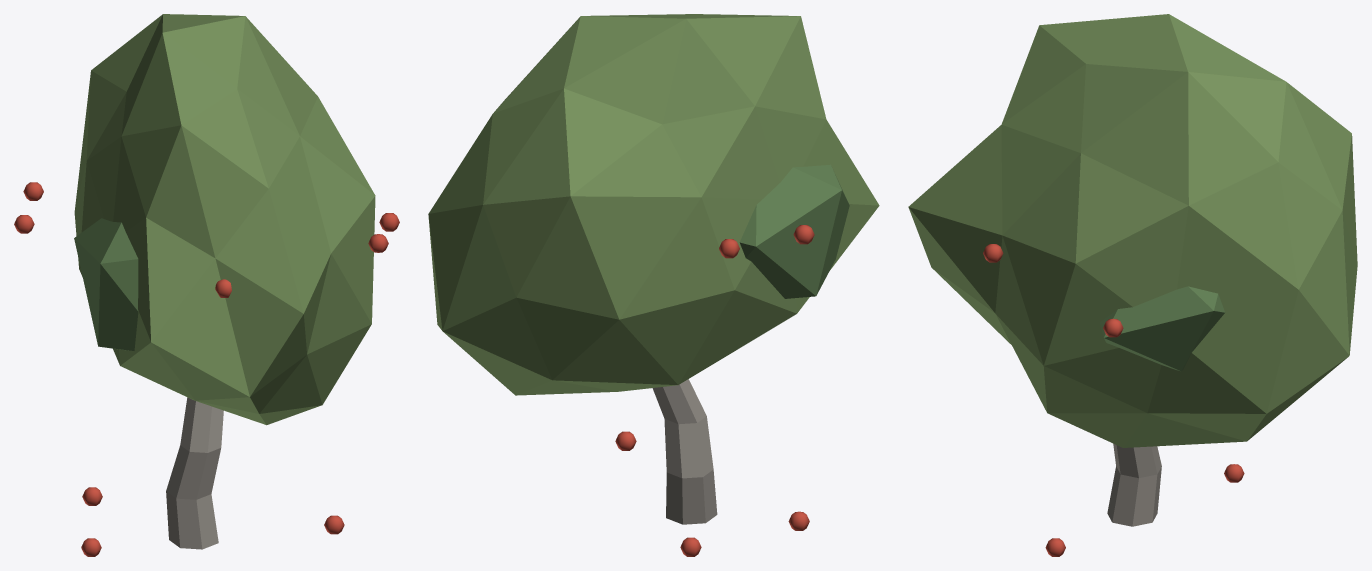
Rendered from v_tree_fruit.glb.
3 renders of one model, left to right at view 1: azimuth 30°, elevation 25°; view 2: azimuth 150°, elevation 25°; view 3: azimuth 270°, elevation 25°, orthographic. The views are drawn at different scales.
Parts seen in each view (by area): view 1: FruitTree; view 2: FruitTree; view 3: FruitTree.
Boxes of the visible parts, box(x1,y1,x2,y2) form: FruitTree: box(14, 14, 399, 556); FruitTree: box(428, 14, 879, 556); FruitTree: box(908, 14, 1357, 556).
Size of what is drawn, in the model's own units: 3.05 by 4.24 by 3.49.
